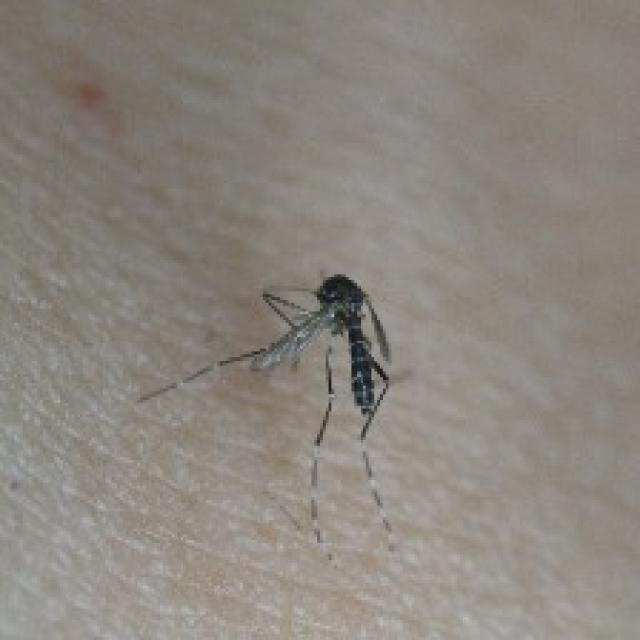aedes: (134, 269, 397, 557)
